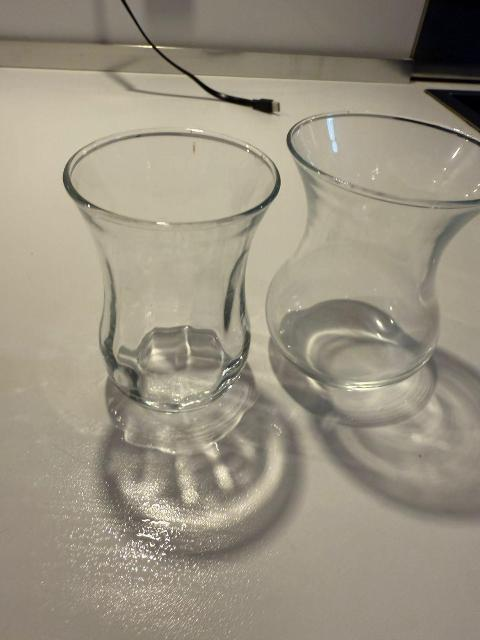Cam: (55, 121, 277, 416), (269, 113, 479, 381)
